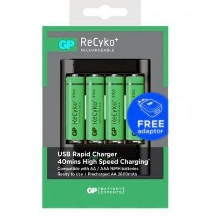battery: (64, 73, 86, 144), (103, 72, 125, 141), (124, 72, 144, 143), (84, 72, 104, 142)
